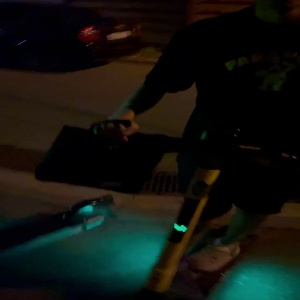human on a scooter: (34, 1, 300, 300)
